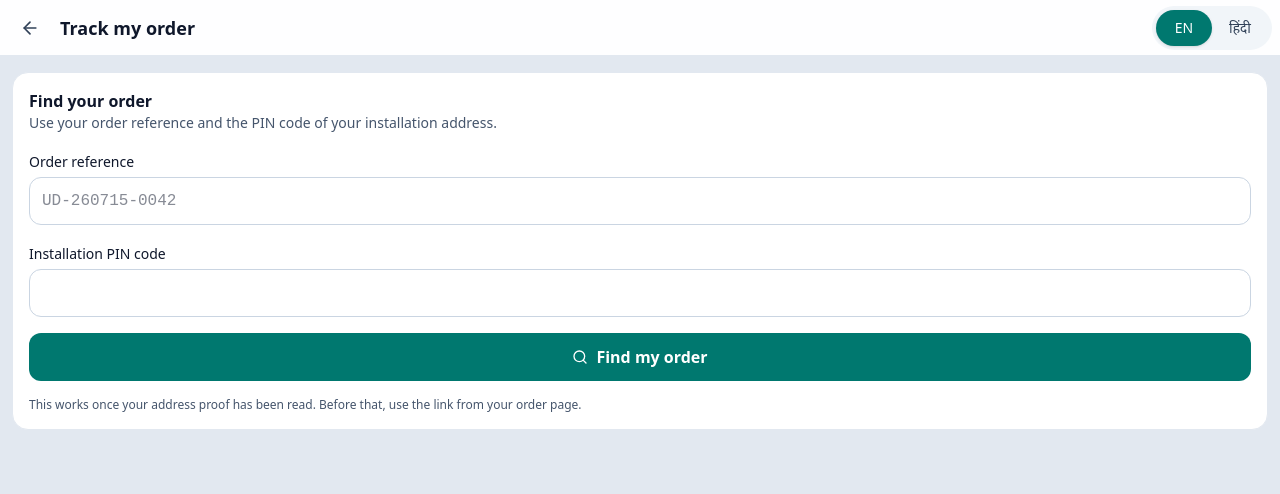
TrackLookup › checks the order reference and PIN code format before asking the server
The width and height of the screenshot is (1280, 494).
Type "12345" into the field labelled "Order reference".
click(640, 201); type("12345")  # box [29,177,1251,225]
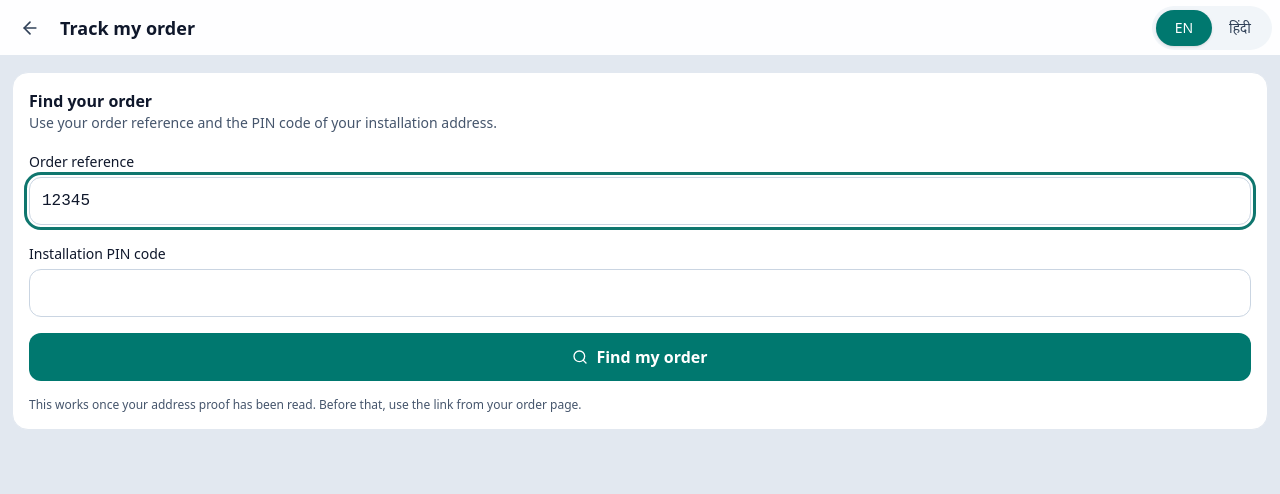
Type "41123" into the field labelled "Installation PIN code".
click(640, 293); type("41123")  # box [29,269,1251,317]
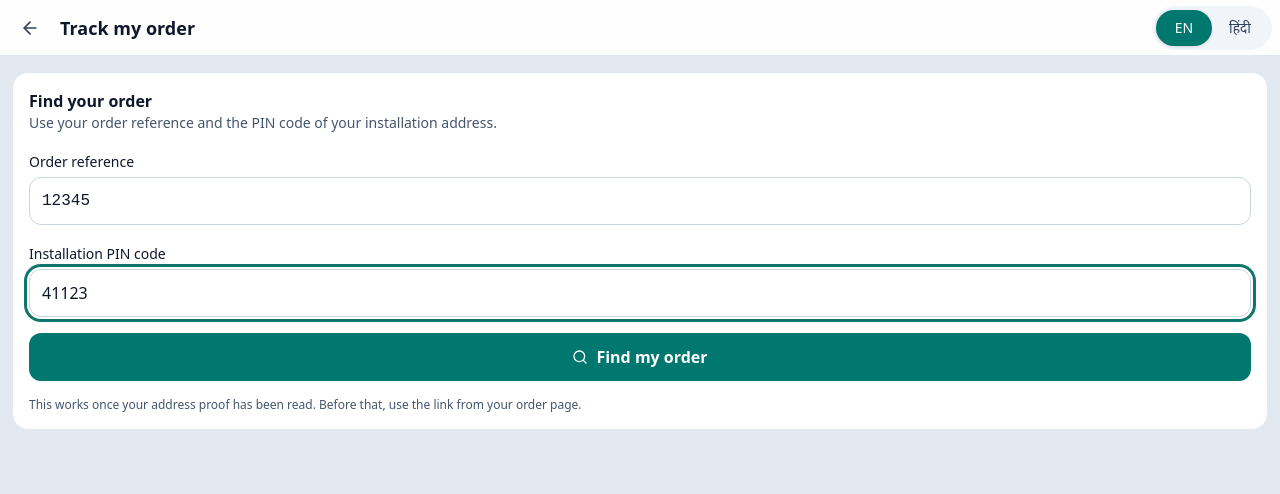
Click the button "Find my order".
click(640, 357)  # box [29,333,1251,381]
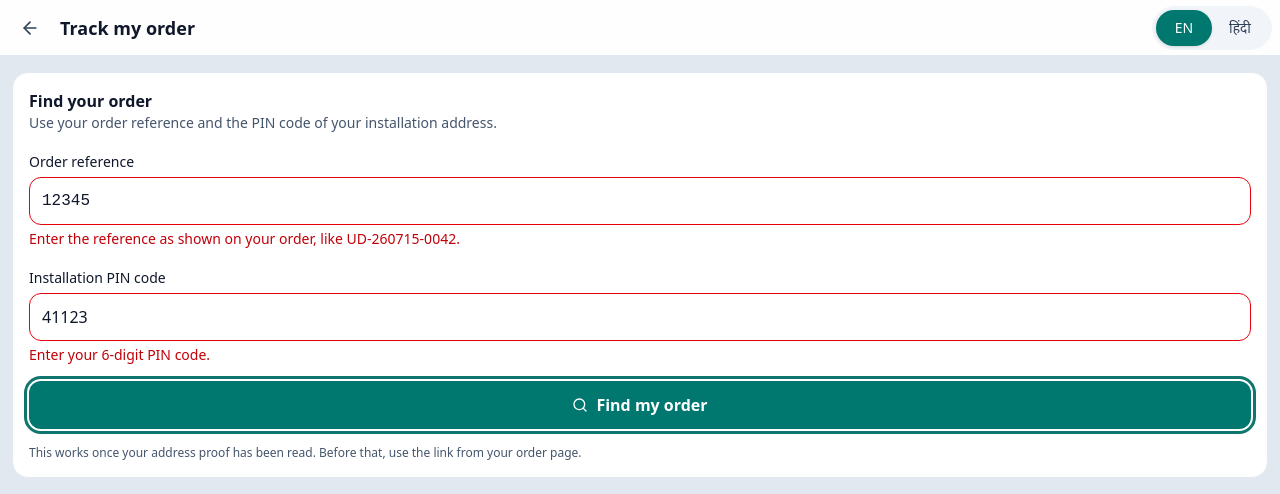
Check: the text "Enter the reference as shown on your order" is shown, box [29,229,460,248]
Check: the text "Enter your 6-digit PIN code." is shown, box [29,345,210,364]
